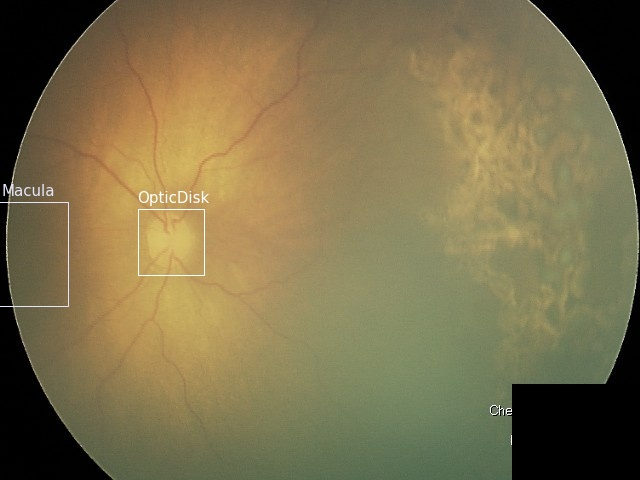OpticDisk: (137, 208, 203, 274)
